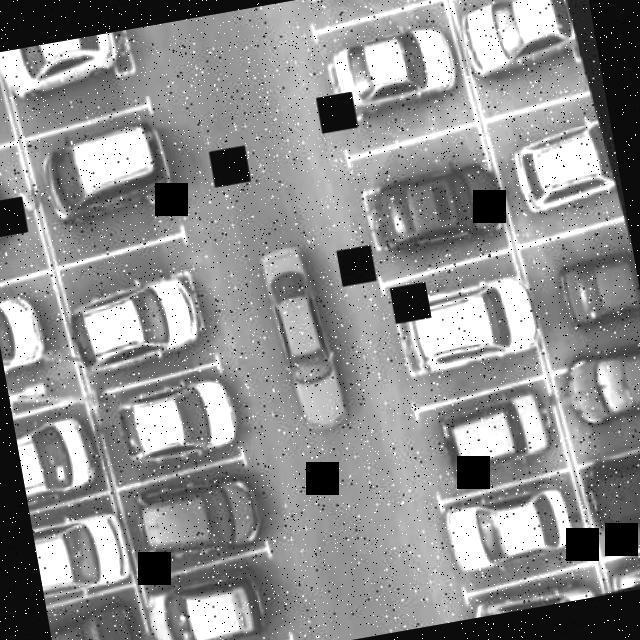car: (245, 211, 357, 431), (116, 352, 247, 482), (36, 104, 170, 230), (384, 274, 542, 371), (87, 242, 214, 362), (442, 479, 582, 582), (428, 372, 558, 477), (127, 472, 274, 560), (357, 158, 499, 244), (506, 121, 618, 216), (152, 562, 287, 640), (555, 339, 640, 460), (538, 229, 640, 326), (326, 40, 460, 106), (456, 0, 579, 71), (32, 511, 140, 590), (12, 408, 94, 500), (5, 31, 128, 92), (577, 439, 640, 535), (0, 292, 58, 382), (46, 593, 145, 640), (478, 575, 589, 616), (586, 555, 640, 597), (0, 157, 23, 255)
